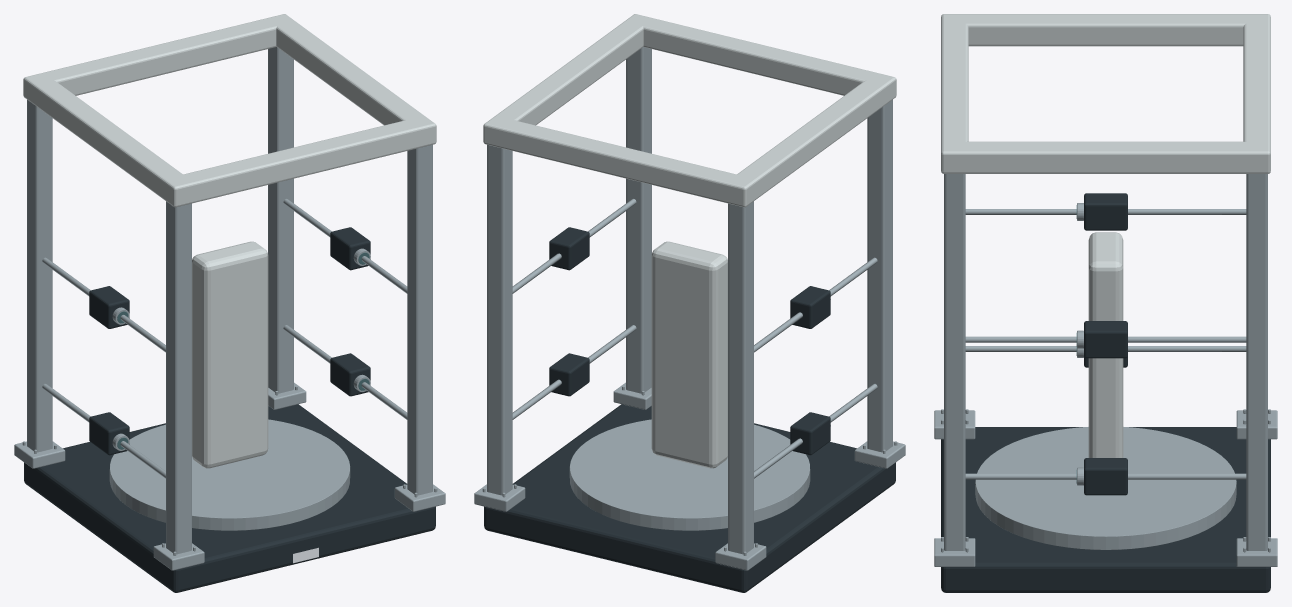
File: SF_TestGantry.fbx
The picture shows the model from 3 angles, left to right: view 1: azimuth 30°, elevation 25°; view 2: azimuth 150°, elevation 25°; view 3: azimuth 270°, elevation 25°; orthographic projection. The views are drawn at different scales.
Parts seen in each view (by area): view 1: SF_TestGantry; view 2: SF_TestGantry; view 3: SF_TestGantry.
Boxes of the visible parts, box(x1,y1,x2,y2) form: SF_TestGantry: box(14, 14, 445, 592); SF_TestGantry: box(474, 14, 905, 592); SF_TestGantry: box(934, 14, 1277, 592).
Size of the model in its own units: 250 by 355 by 250.
